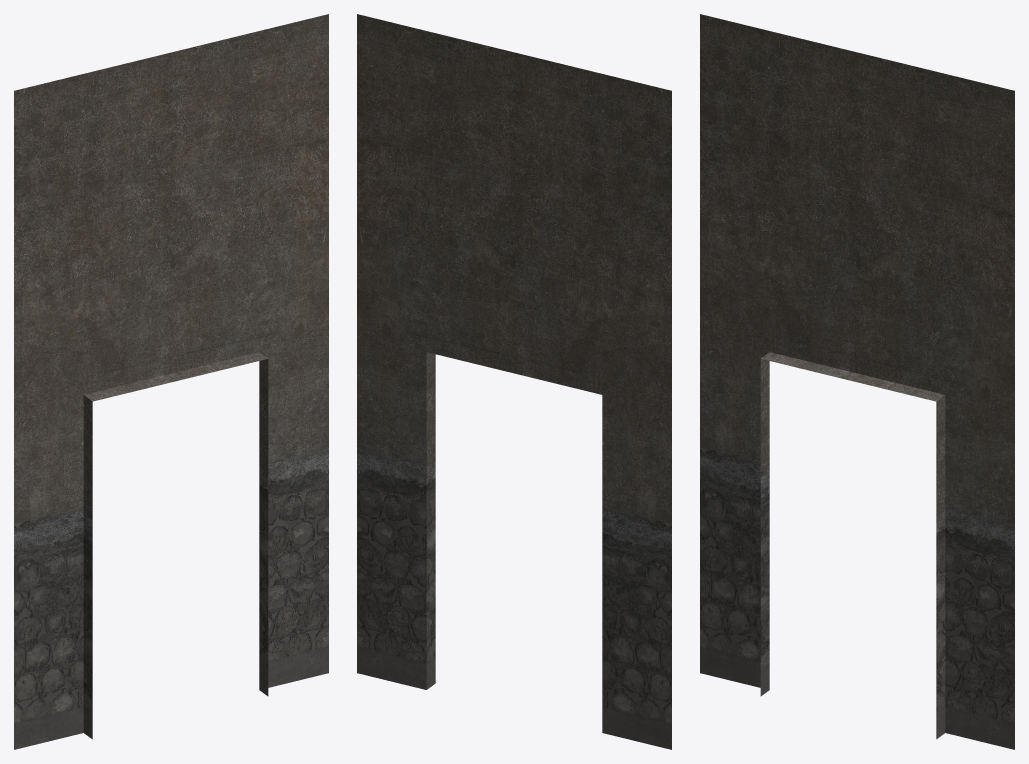
Rendered from Basement_Corridor_F_Wall_2m_Door.glb.
The picture shows the model from 3 angles, left to right: view 1: azimuth 30°, elevation 25°; view 2: azimuth 150°, elevation 25°; view 3: azimuth 330°, elevation 25°; orthographic projection.
Parts seen in each view (by area): view 1: Basement_Corridor_F_Wall_2m_Door; view 2: Basement_Corridor_F_Wall_2m_Door; view 3: Basement_Corridor_F_Wall_2m_Door.
Part boxes in pixels (x1,y1,x2,y2): Basement_Corridor_F_Wall_2m_Door: (14,14,328,749); Basement_Corridor_F_Wall_2m_Door: (357,14,671,749); Basement_Corridor_F_Wall_2m_Door: (700,14,1014,749).
Bounding box in the file's own units: 2 × 4 × 0.1.
Materials: 1 (1 with a texture image).
